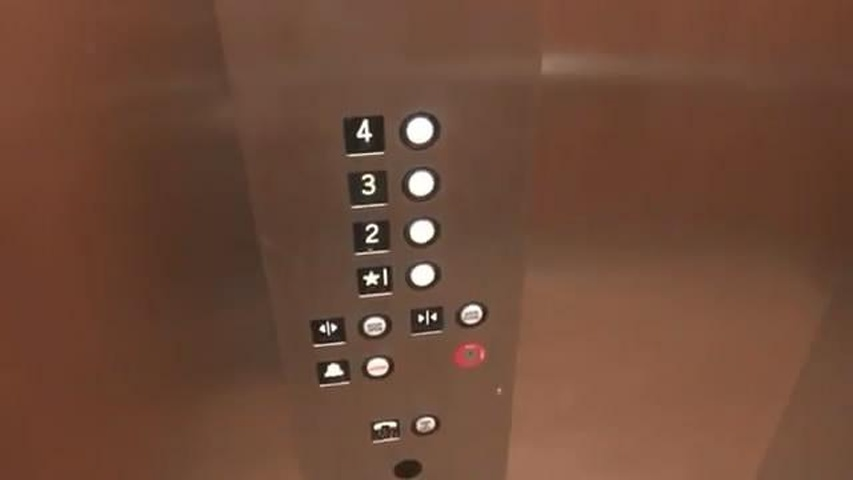2: (350, 217, 395, 257)
3: (345, 168, 389, 210)
4: (339, 113, 387, 158)
alarm: (311, 356, 356, 389)
call: (368, 417, 404, 448)
close: (404, 302, 447, 340)
empty: (397, 107, 446, 155), (398, 211, 443, 252), (402, 165, 441, 206), (404, 258, 442, 295)
keyhole: (447, 340, 487, 374)
open: (307, 313, 348, 353)
s1: (354, 262, 393, 299)
text_blur: (452, 297, 489, 333), (357, 312, 394, 345), (361, 350, 397, 383), (411, 411, 441, 441)
